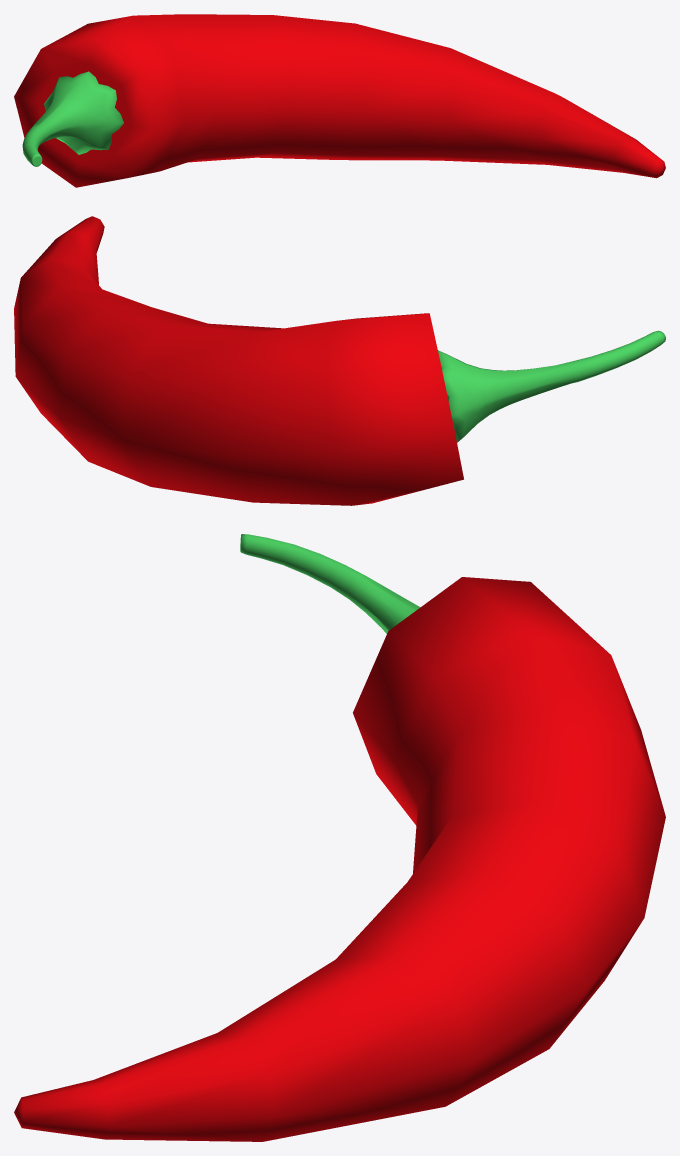
Rendered from pepper_fixed.fbx.
The picture shows the model from 3 angles, top to bottom: view 1: azimuth 30°, elevation 25°; view 2: azimuth 150°, elevation 25°; view 3: azimuth 270°, elevation 25°; orthographic projection. The views are drawn at different scales.
Parts seen in each view (by area): view 1: pepper_mesh; view 2: pepper_mesh; view 3: pepper_mesh.
Boxes of the visible parts, x1,y1,x2,y2 form: pepper_mesh: (14,14,665,187); pepper_mesh: (14,216,665,505); pepper_mesh: (14,534,665,1141).
Size of the model in its own units: 22.56 by 7.01 by 14.27.
